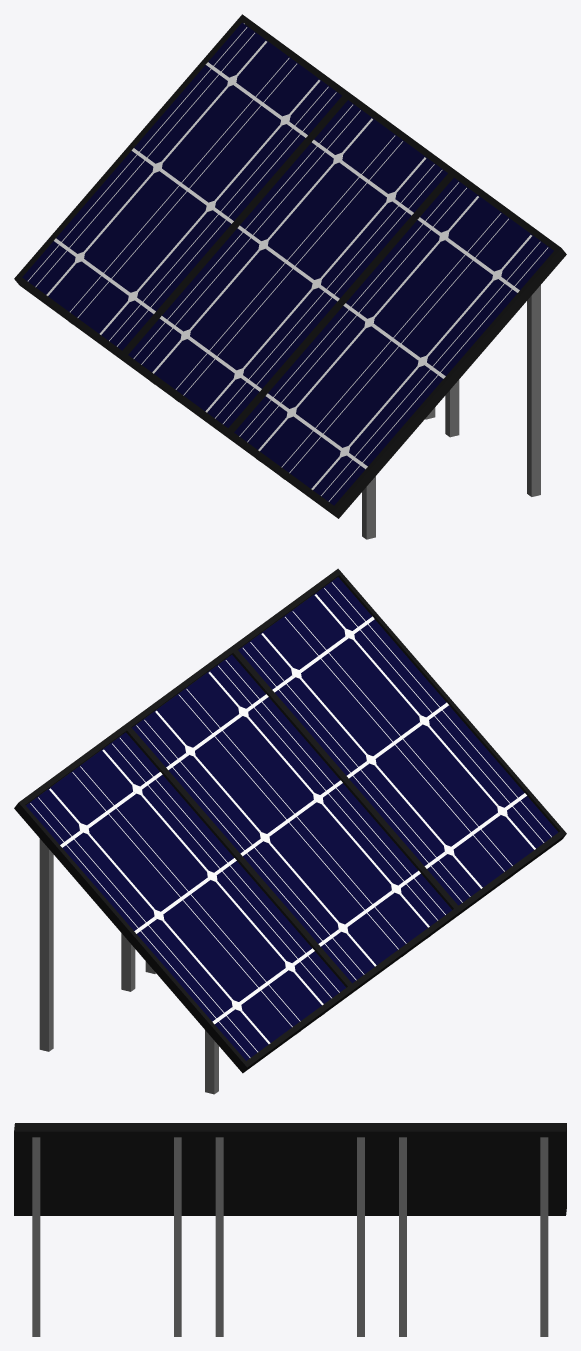
Rendered from Solar Panel 4.FBX.
The picture shows the model from 3 angles, top to bottom: view 1: azimuth 30°, elevation 25°; view 2: azimuth 150°, elevation 25°; view 3: azimuth 270°, elevation 25°; orthographic projection. The views are drawn at different scales.
Visible parts, largest first — view 1: Box002; view 2: Box002; view 3: Box002.
Boxes of the visible parts, <box> form: Box002: <box>14,14,566,539</box>; Box002: <box>14,568,566,1094</box>; Box002: <box>14,1123,566,1336</box>.
Bounding box in the file's own units: 18.55 × 19.31 × 44.01.
